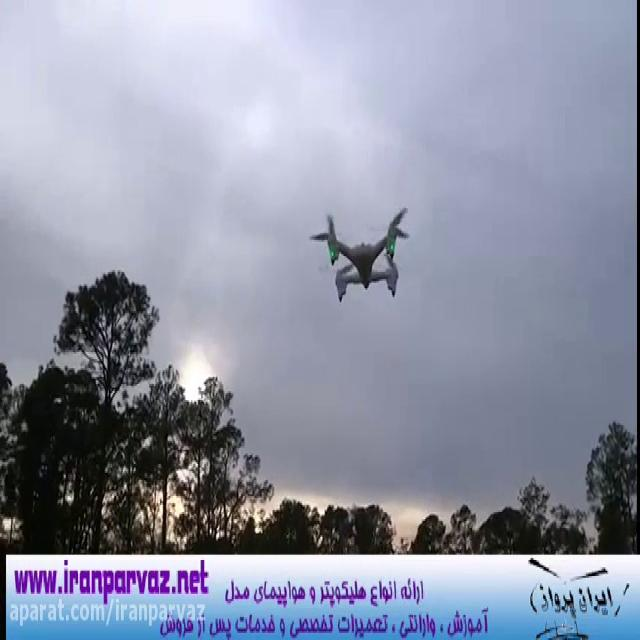drone: (304, 192, 414, 309)
